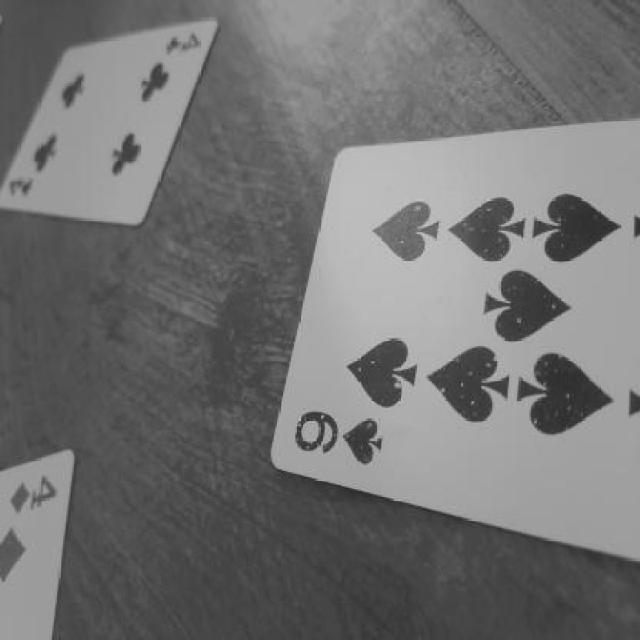4D: (1, 471, 62, 527)
9S: (288, 401, 392, 482)
